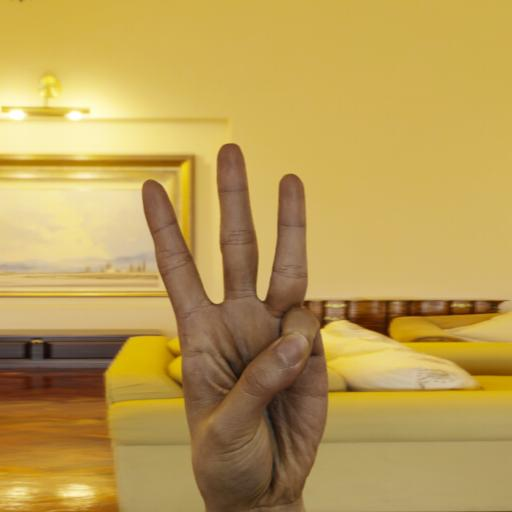W: (122, 140, 356, 512)
